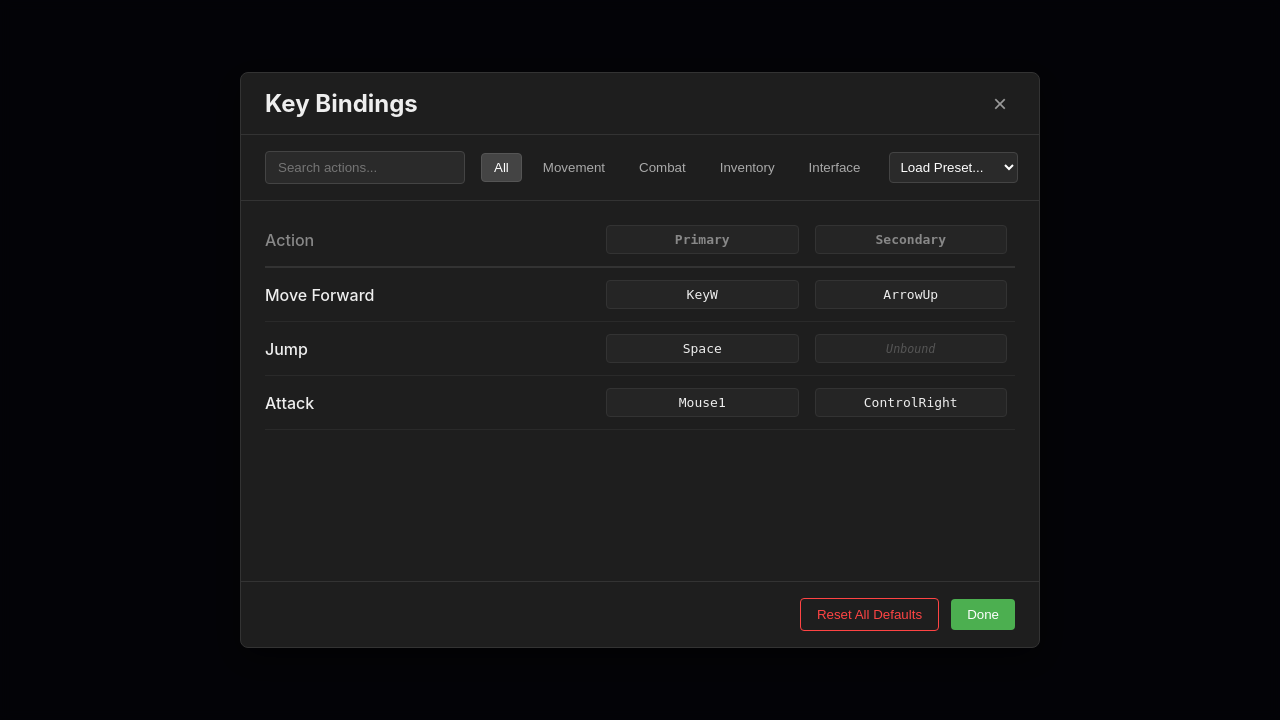
it: KeybindingEditor › enters capture mode on click
Click the text "KeyW". click: (702, 294)
box: [606, 280, 798, 309]
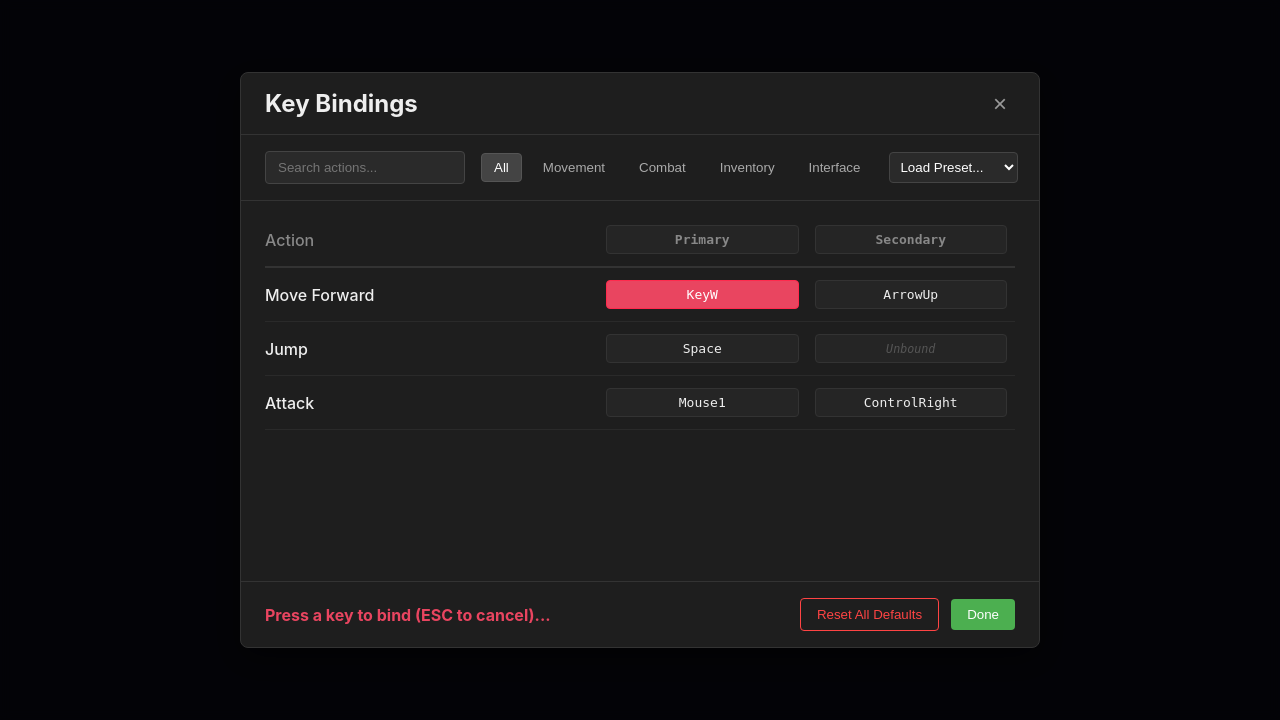
Result: the text "Press a key to bind (ESC to cancel)..." is shown at [265, 604, 551, 624]
